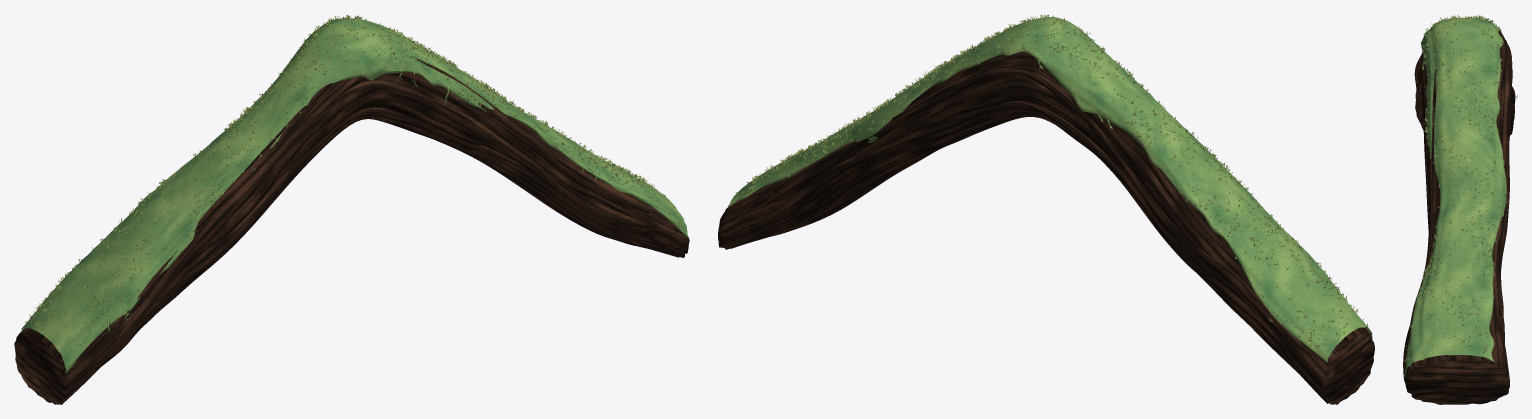
The model's file is SM_Valley_MossRootArch.fbx.
3 views of the same model, side by side, from view 1: azimuth 30°, elevation 25°; view 2: azimuth 150°, elevation 25°; view 3: azimuth 270°, elevation 25° (orthographic). The views are drawn at different scales.
Parts seen in each view (by area): view 1: SM_Valley_MossRootArch; view 2: SM_Valley_MossRootArch; view 3: SM_Valley_MossRootArch.
Part boxes in pixels (<box>): SM_Valley_MossRootArch: <box>14,14,689,404</box>; SM_Valley_MossRootArch: <box>718,14,1374,404</box>; SM_Valley_MossRootArch: <box>1403,14,1517,404</box>.
Size of the model in its own units: 1057 by 197 by 494.
Materials: 3 (2 with a texture image).
